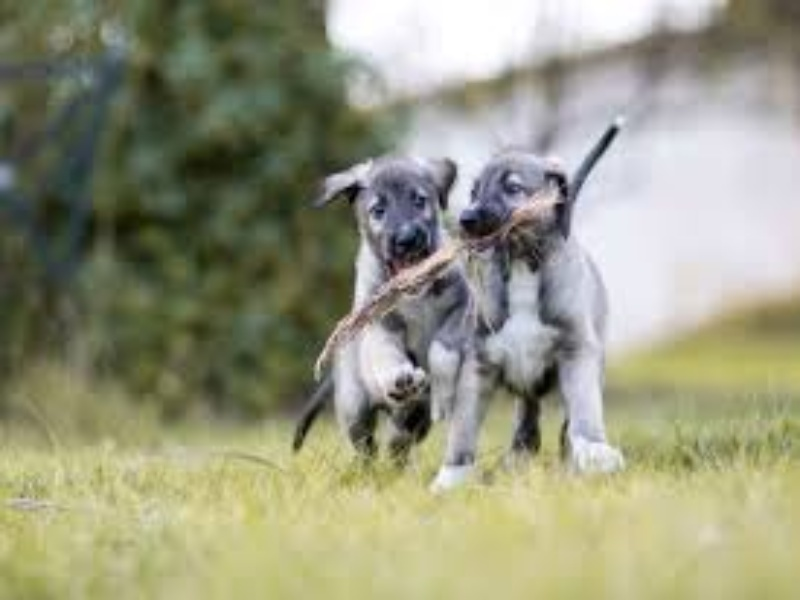dog: (452, 144, 637, 499), (302, 146, 469, 487)
